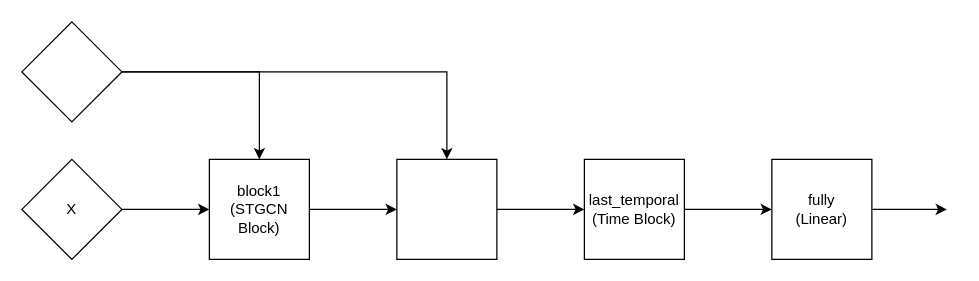
This 979x281 diagram has some shape labels left out. The box of each missing label's shape, as (x1, y1, x2, y2) in pixels:
A_hat: (21, 21, 122, 122)
block2 (STGCN Block): (396, 158, 497, 259)
